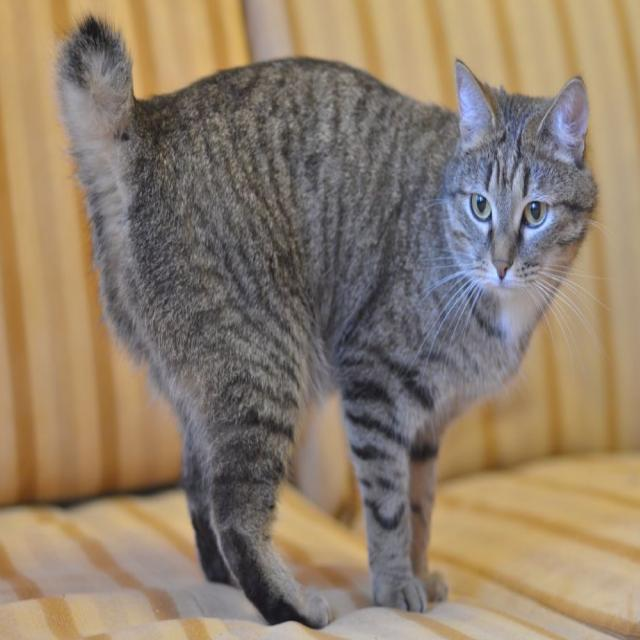American Bobtail: (54, 8, 600, 628)
